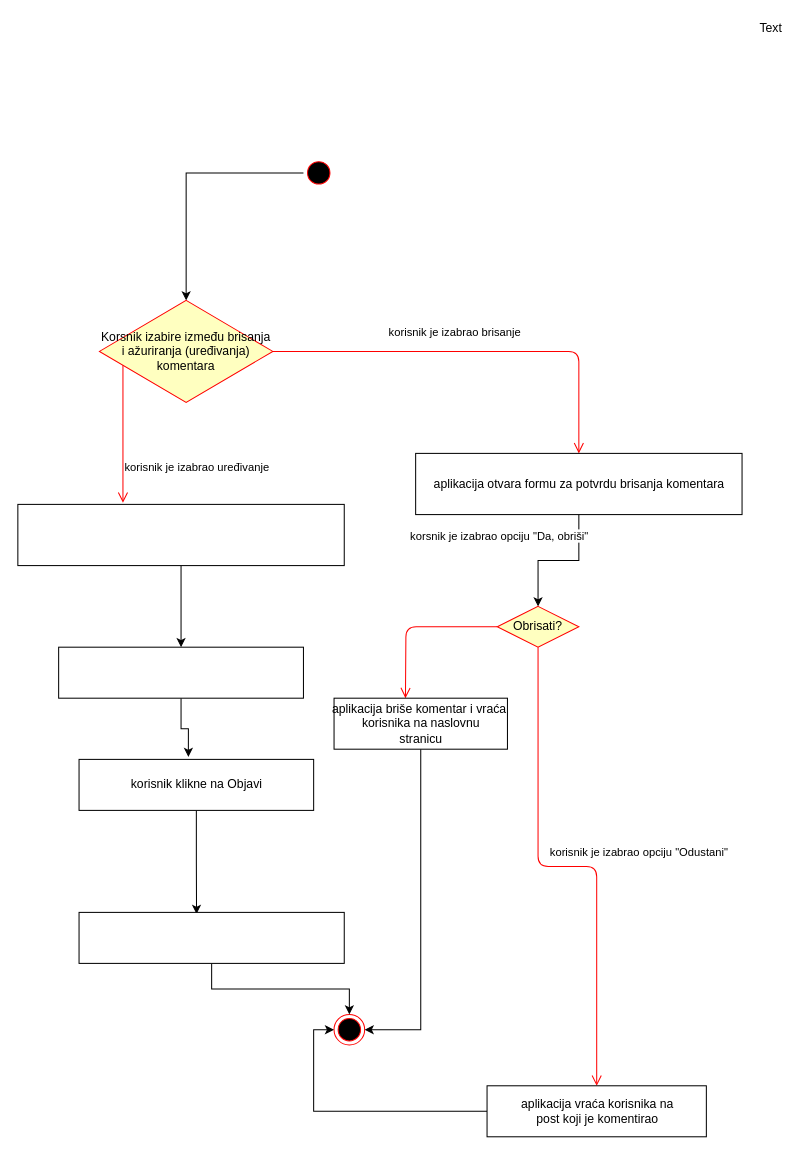
Some shapes in this 809 by 1155 pixel diagram are drawn without their labels. Each missing label, with the box of its shape:
aplikacija ažurira postojeći komentar: (78, 911, 344, 963)
aplikacija otvara formu postojećeg komentara: (17, 503, 344, 566)
korisnik ažurira svoj komentar: (58, 646, 303, 698)
